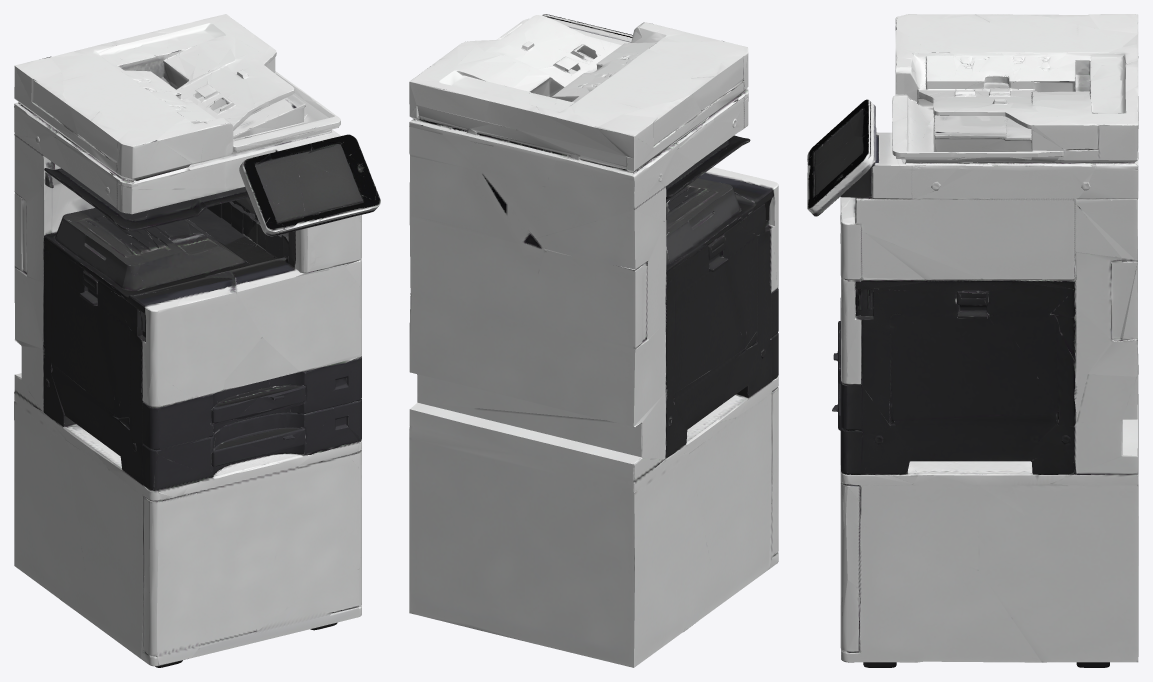
File: sharp-style-a3-mfp.glb
The picture shows the model from 3 angles, left to right: view 1: azimuth 30°, elevation 25°; view 2: azimuth 150°, elevation 25°; view 3: azimuth 270°, elevation 25°; orthographic projection. The views are drawn at different scales.
Bounding box in the file's own units: 0.8583 × 1.9 × 1.03.
Materials: 1 (1 with a texture image).
